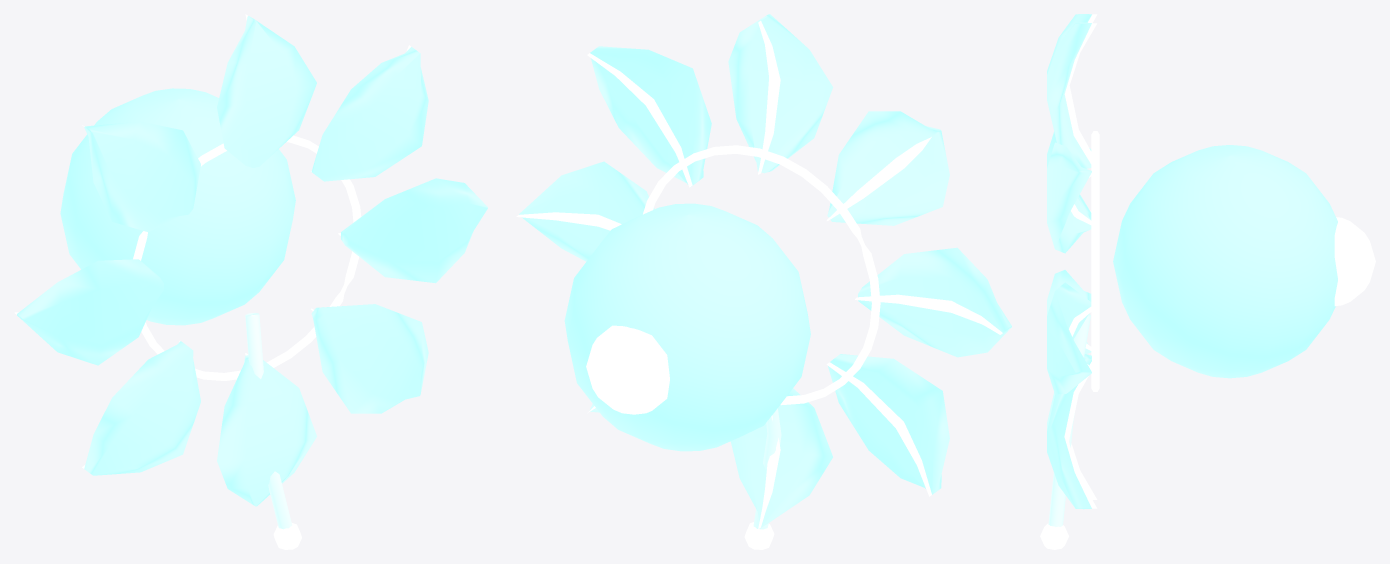
File: Flower_Teal_Bloom.glb
3 views of the same model, side by side, from view 1: azimuth 30°, elevation 25°; view 2: azimuth 150°, elevation 25°; view 3: azimuth 270°, elevation 25° (orthographic). The views are drawn at different scales.
Visible parts, largest first — view 1: Petals, ReceiverSphere_R4cm, ReceiverRim, Stem; view 2: Petals, ReceiverSphere_R4cm, PetalHighlights, PearlCore, ReceiverRim, Stem; view 3: ReceiverSphere_R4cm, Petals, PearlCore, ReceiverRim, PetalHighlights, Stem, StemBud.
Boxes of the visible parts, left/top/right/bottom form: Petals: left=17, top=16, right=487, bottom=506; ReceiverSphere_R4cm: left=60, top=88, right=295, bottom=325; ReceiverRim: left=133, top=135, right=361, bottom=380; Stem: left=245, top=312, right=292, bottom=529; Petals: left=519, top=14, right=1011, bottom=527; ReceiverSphere_R4cm: left=564, top=203, right=810, bottom=451; PetalHighlights: left=516, top=21, right=1002, bottom=528; PearlCore: left=586, top=325, right=669, bottom=414; ReceiverRim: left=643, top=145, right=880, bottom=405; Stem: left=753, top=408, right=781, bottom=529; ReceiverSphere_R4cm: left=1113, top=145, right=1337, bottom=378; Petals: left=1047, top=14, right=1091, bottom=509; PearlCore: left=1334, top=217, right=1375, bottom=306; ReceiverRim: left=1091, top=131, right=1099, bottom=391; PetalHighlights: left=1064, top=14, right=1097, bottom=508; Stem: left=1048, top=314, right=1090, bottom=526; StemBud: left=1040, top=523, right=1068, bottom=549.
Size of the model in its own units: 0.18 by 0.195 by 0.115.
